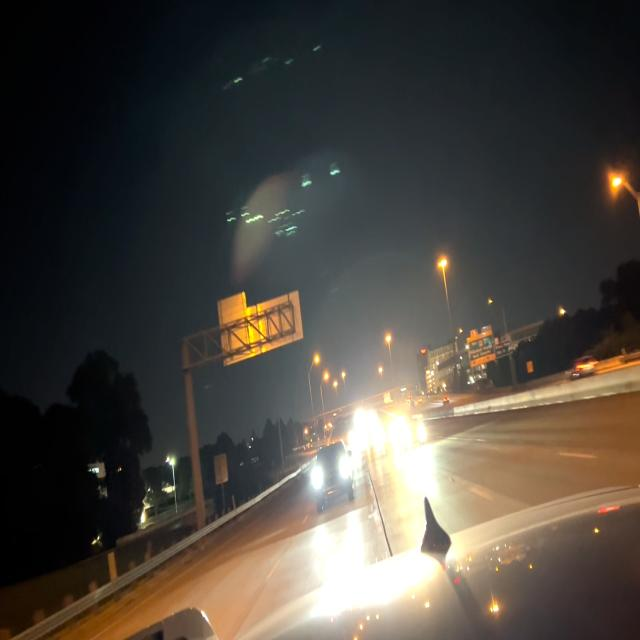back-of-sign: (215, 291, 305, 367)
